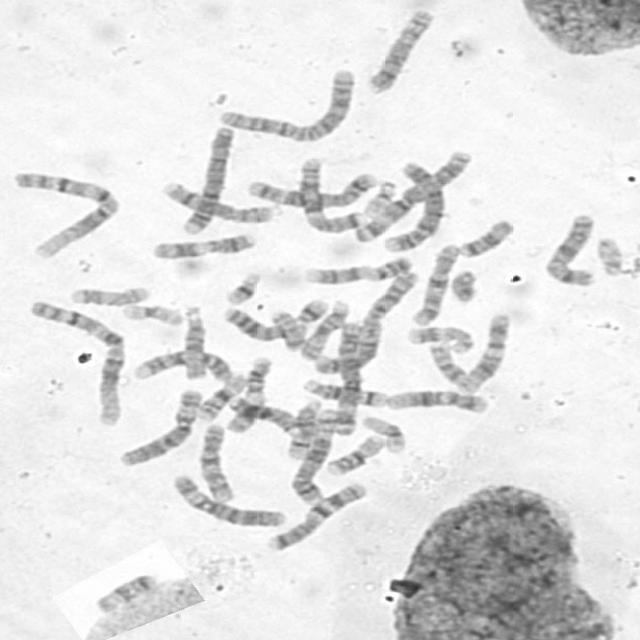A1: (28, 300, 128, 430), (12, 169, 120, 260)
A2: (311, 272, 423, 376), (214, 66, 355, 142)
A3: (353, 150, 472, 242), (336, 322, 364, 437)
B4: (180, 125, 237, 236), (380, 160, 445, 254)
B5: (288, 407, 338, 508), (246, 172, 378, 210)
C10: (411, 244, 464, 326), (197, 423, 237, 503)
C11: (222, 354, 272, 435), (152, 233, 256, 260)
C12: (458, 313, 512, 397), (387, 389, 489, 413)
C6: (119, 389, 204, 467), (169, 473, 286, 528)
C7: (266, 483, 368, 554), (296, 156, 372, 234)
C8: (366, 9, 436, 93), (162, 180, 283, 225)
C9: (130, 348, 234, 383), (304, 256, 415, 284)
D13: (228, 394, 298, 436), (222, 306, 296, 343)
D14: (301, 378, 387, 408), (287, 397, 325, 461)
D15: (296, 300, 349, 363), (181, 306, 209, 382)
E16: (192, 373, 251, 422), (324, 433, 387, 478)
E17: (409, 325, 473, 355), (69, 286, 151, 306)
E18: (94, 574, 156, 614), (459, 219, 514, 257)
F19: (359, 416, 408, 454), (120, 303, 185, 328)
F20: (428, 341, 468, 384), (271, 309, 308, 351)
G21: (225, 272, 265, 306), (296, 297, 329, 324)
G22: (360, 180, 397, 219), (596, 236, 624, 276)
X: (544, 213, 600, 288)
Y: (452, 268, 478, 303)
